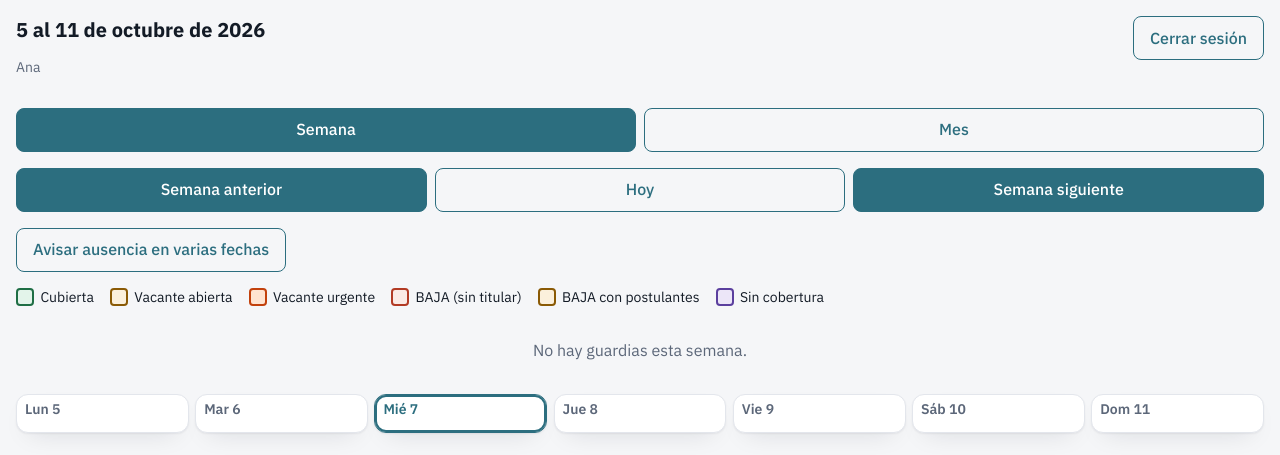
Test: Calendario › error del servidor: mensaje y Reintentar
Expected: the text "No hay guardias esta semana." is shown, x1=533 y1=340 x2=747 y2=360
Click the button "Semana siguiente".
click(1059, 190)  # box x1=853 y1=168 x2=1264 y2=212
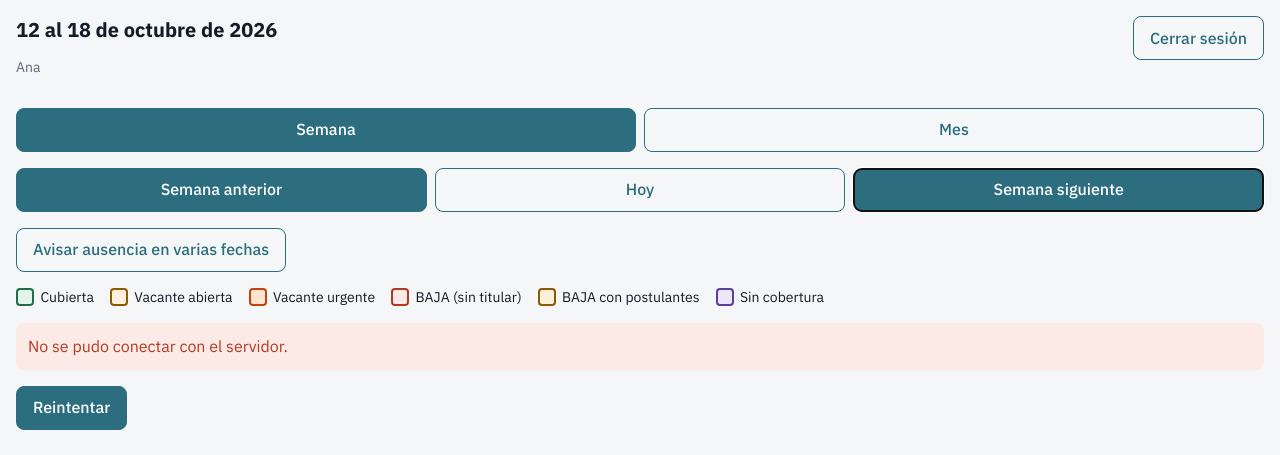
Now the message reads "No se pudo conectar con el servidor.", box x1=28 y1=336 x2=288 y2=356
Click the button "Reintentar".
click(72, 408)  # box x1=16 y1=386 x2=127 y2=430
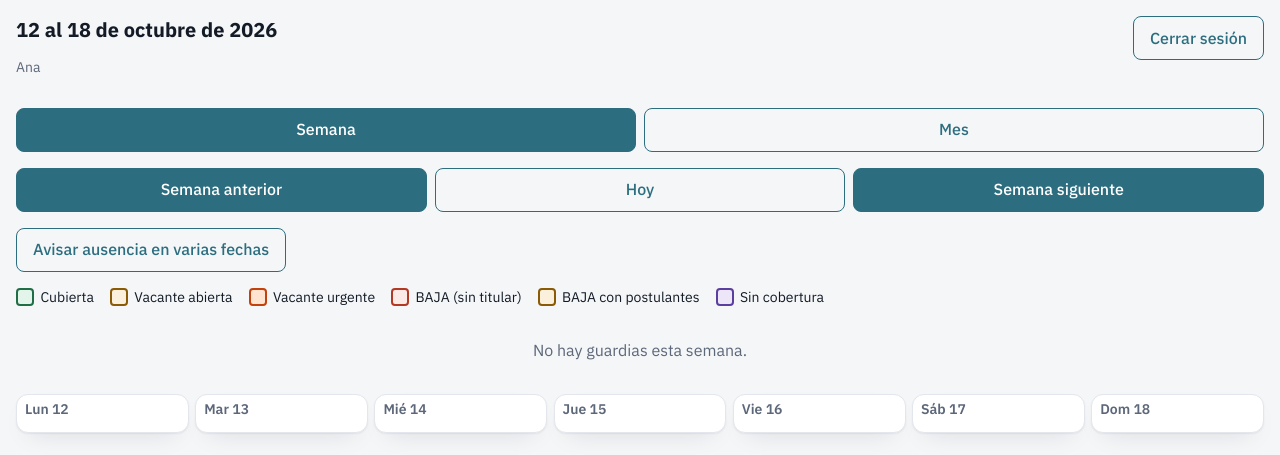
Now the text "No hay guardias esta semana." is shown, box x1=533 y1=340 x2=747 y2=360
